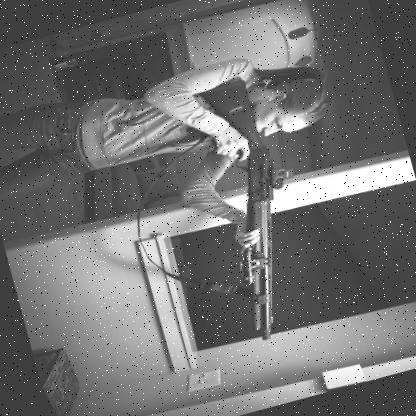rifle: (169, 67, 336, 352)
